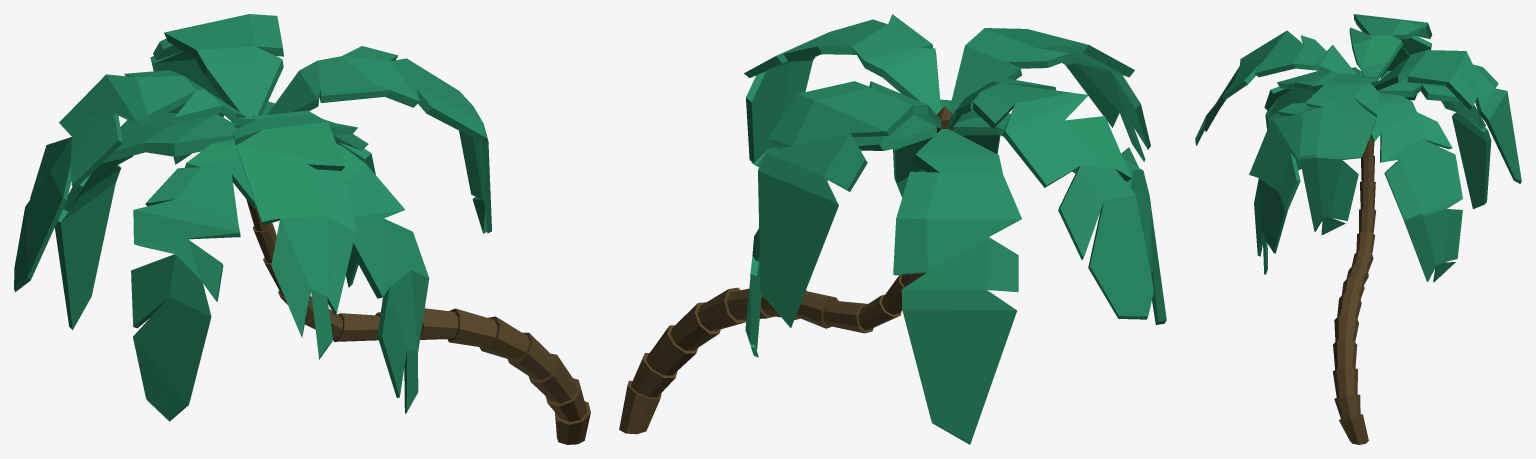
File: PalmTree_1.fbx
3 views of the same model, side by side, from view 1: azimuth 30°, elevation 25°; view 2: azimuth 150°, elevation 25°; view 3: azimuth 270°, elevation 25° (orthographic). The views are drawn at different scales.
Visible parts, largest first — view 1: PalmTree.001; view 2: PalmTree.001; view 3: PalmTree.001.
Boxes of the visible parts, <box> form: PalmTree.001: <box>14,14,590,444</box>; PalmTree.001: <box>619,14,1166,444</box>; PalmTree.001: <box>1195,14,1521,444</box>.
Bounding box in the file's own units: 453 × 349 × 356.
